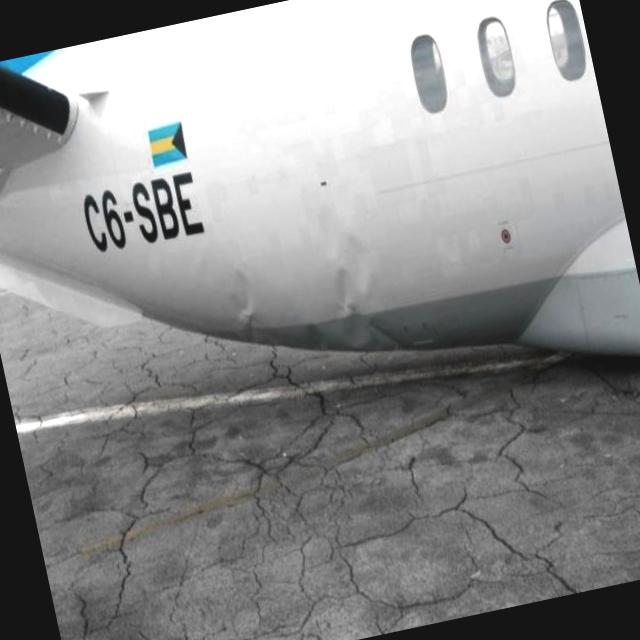dent: (206, 186, 404, 383)
